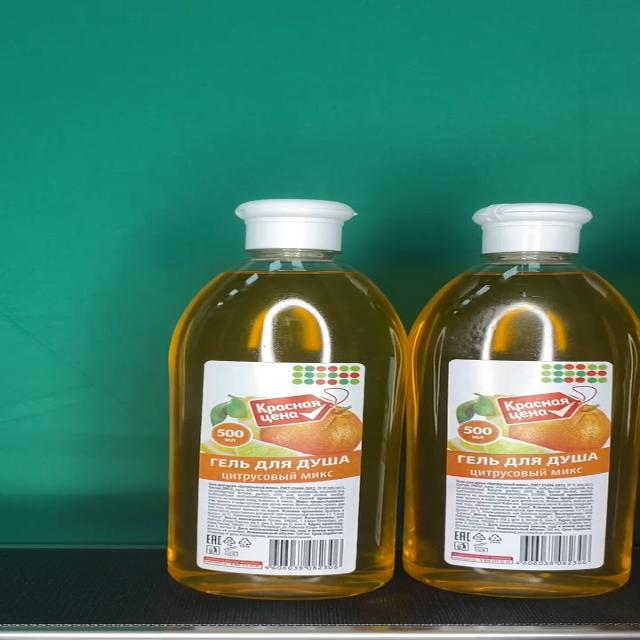Bottle: (165, 200, 408, 600), (408, 202, 640, 598)
Cap: (472, 203, 593, 254), (235, 200, 355, 250)
